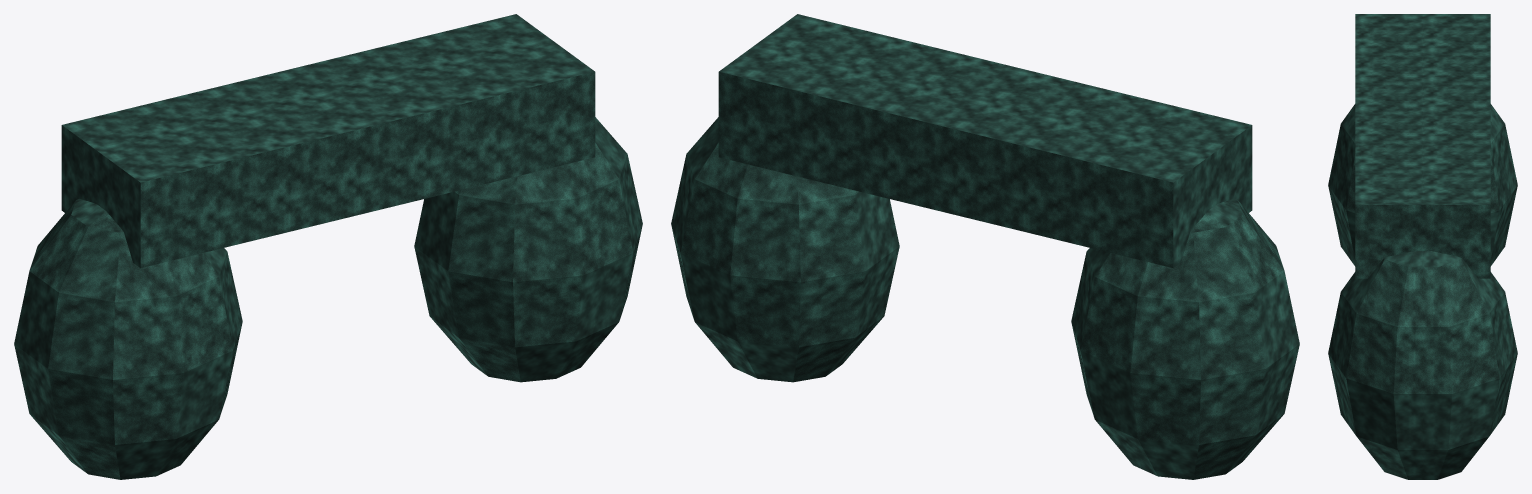
File: grotto_bay.glb
The picture shows the model from 3 angles, left to right: view 1: azimuth 30°, elevation 25°; view 2: azimuth 150°, elevation 25°; view 3: azimuth 270°, elevation 25°; orthographic projection. The views are drawn at different scales.
Visible parts, largest first — view 1: Body; view 2: Body; view 3: Body.
Part boxes in pixels (bbox=[...]): Body: bbox=[14, 14, 642, 479]; Body: bbox=[671, 14, 1299, 479]; Body: bbox=[1328, 14, 1517, 479].
Bounding box in the file's own units: 13.08 × 6.9 × 4.2.
1 material, 1 textured.
